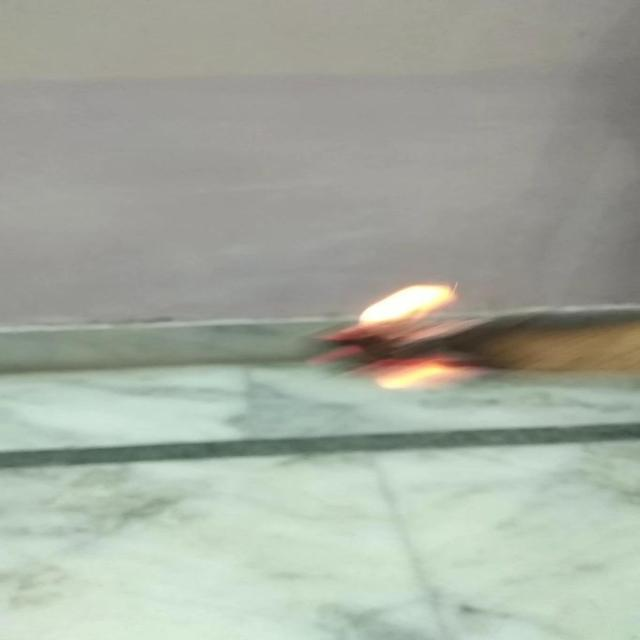smoke: (331, 281, 486, 394)
